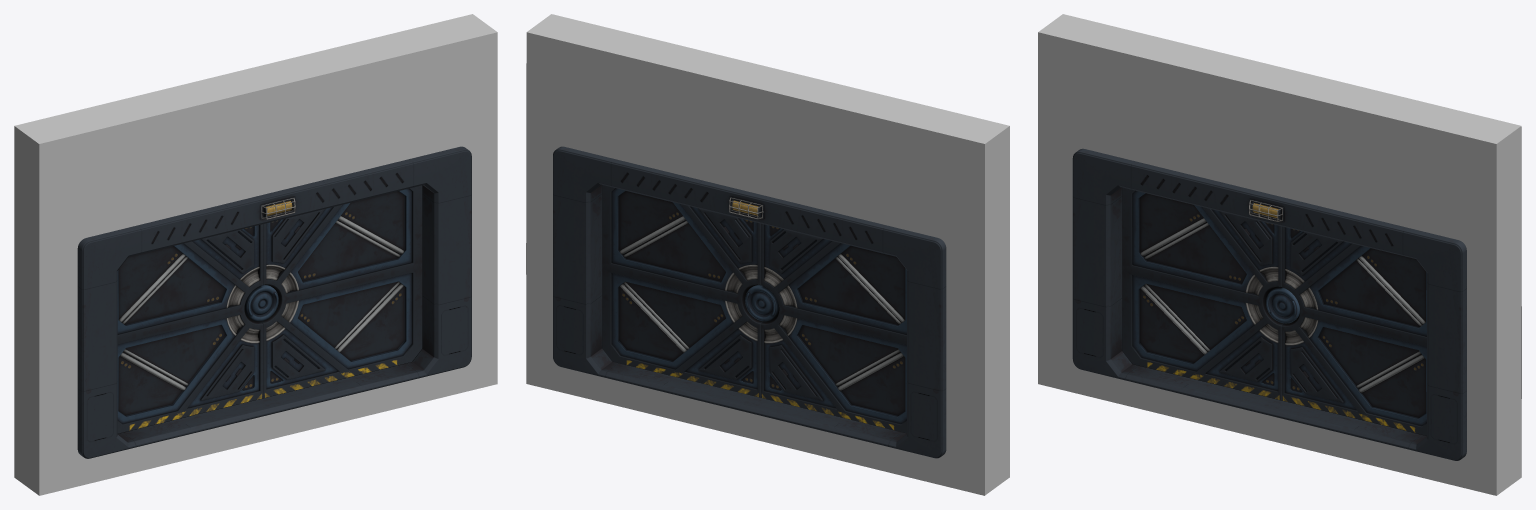
Rendered from BG_TR_BD_Wall_01.fbx.
The picture shows the model from 3 angles, left to right: view 1: azimuth 30°, elevation 25°; view 2: azimuth 150°, elevation 25°; view 3: azimuth 330°, elevation 25°; orthographic projection.
Visible parts, largest first — view 1: GenRm_wall_bottom_low.010, tu_gate_side_002, tu_gate_R_002, tu_gate_L_002; view 2: GenRm_wall_bottom_low.010, tu_gate_side_002, tu_gate_R_002, tu_gate_L_002; view 3: GenRm_wall_bottom_low.010, tu_gate_side_002, tu_gate_L_002, tu_gate_R_002.
Boxes of the visible parts, box(x1,y1,x2,y2) form: GenRm_wall_bottom_low.010: box(14, 14, 497, 495); tu_gate_side_002: box(77, 146, 471, 458); tu_gate_R_002: box(261, 185, 422, 397); tu_gate_L_002: box(117, 224, 278, 433); GenRm_wall_bottom_low.010: box(526, 14, 1009, 495); tu_gate_side_002: box(553, 146, 946, 458); tu_gate_R_002: box(602, 185, 762, 397); tu_gate_L_002: box(745, 223, 906, 433); GenRm_wall_bottom_low.010: box(1038, 14, 1521, 495); tu_gate_side_002: box(1072, 148, 1466, 460); tu_gate_L_002: box(1122, 187, 1299, 399); tu_gate_R_002: box(1281, 226, 1426, 435).
Bounding box in the file's own units: 4.18 × 0.6493 × 3.07.
